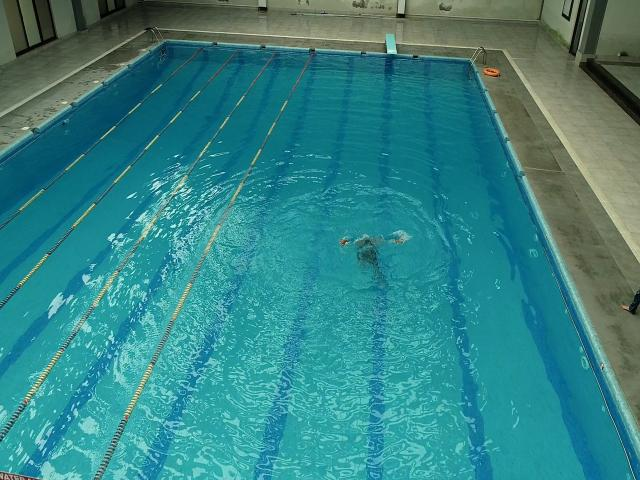drowning: (339, 234, 404, 284)
